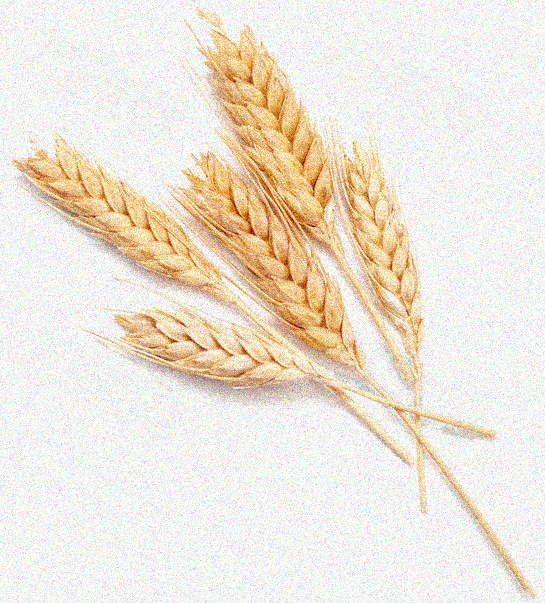wheat: (6, 125, 253, 327), (180, 147, 379, 381), (198, 16, 345, 250), (103, 301, 369, 389), (341, 153, 432, 389)
